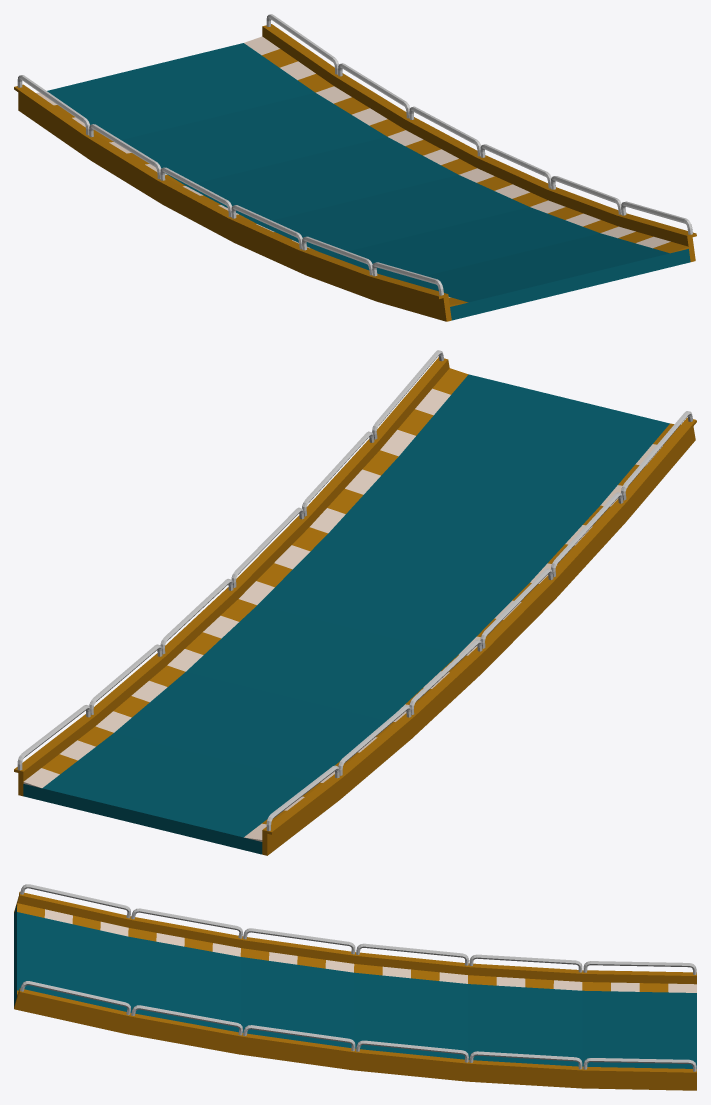
The model's file is ascent-15_l.FBX.
3 renders of one model, top to bottom at view 1: azimuth 30°, elevation 25°; view 2: azimuth 150°, elevation 25°; view 3: azimuth 270°, elevation 25°, orthographic. The views are drawn at different scales.
Visible parts, largest first — view 1: ascent-15_l, wall_r, wall_l, curbs_l, curbs_r; view 2: ascent-15_l, wall_r, wall_l, curbs_l, curbs_r; view 3: ascent-15_l, wall_l, wall_r, curbs_r.
Part boxes in pixels (box(x1,y1,x2,y2)): ascent-15_l: box(47, 43, 690, 320); wall_r: box(14, 75, 451, 321); wall_l: box(262, 14, 696, 261); curbs_l: box(244, 36, 688, 253); curbs_r: box(36, 92, 468, 306); ascent-15_l: box(23, 374, 669, 854); wall_r: box(262, 411, 696, 855); wall_l: box(14, 350, 449, 796); curbs_l: box(23, 368, 468, 788); curbs_r: box(244, 423, 680, 841); ascent-15_l: box(14, 905, 696, 1068); wall_l: box(14, 981, 696, 1090); wall_r: box(14, 884, 696, 984); curbs_r: box(17, 903, 696, 992).
Size of what is drawn, in the model's own units: 207 by 105 by 596.
